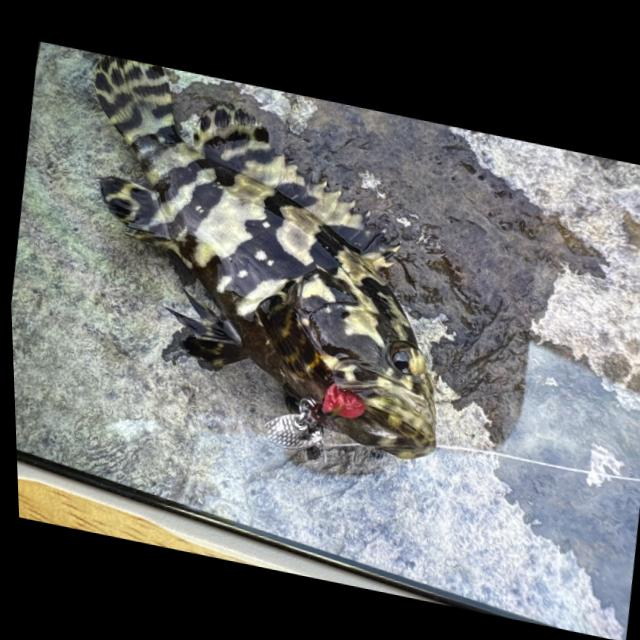Groupers: (45, 48, 482, 464)
